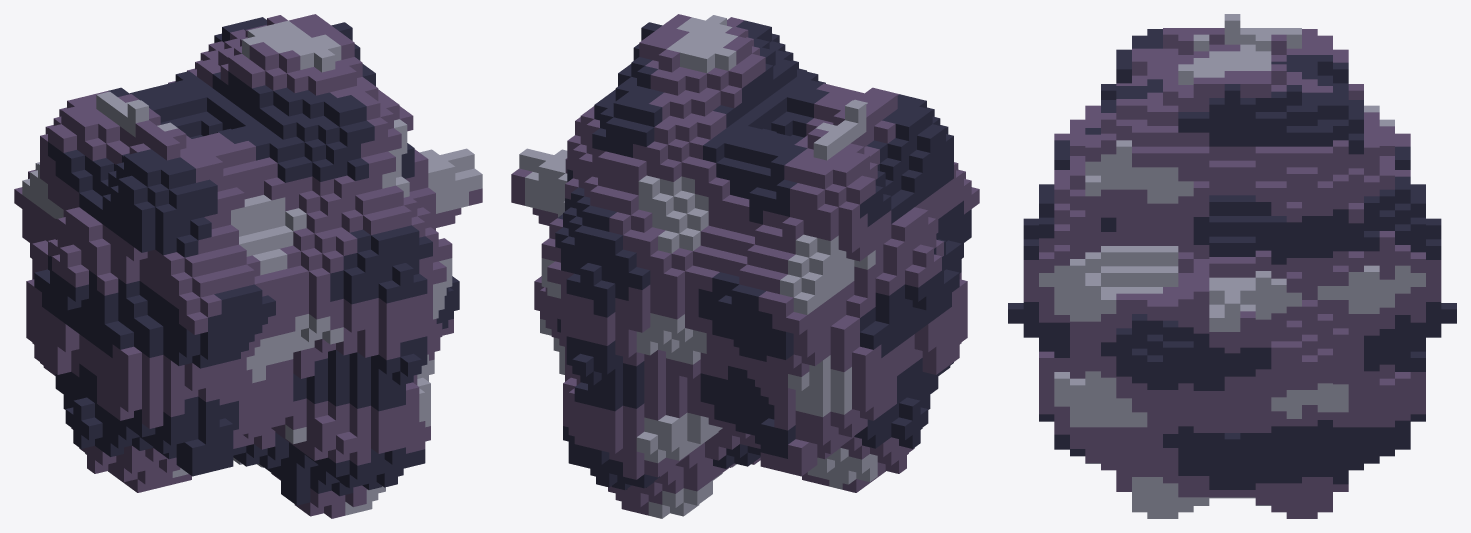
Rendered from asteroid.glb.
The picture shows the model from 3 angles, left to right: view 1: azimuth 30°, elevation 25°; view 2: azimuth 150°, elevation 25°; view 3: azimuth 270°, elevation 25°; orthographic projection.
Visible parts, largest first — view 1: GEO-asteroid; view 2: GEO-asteroid; view 3: GEO-asteroid.
Part boxes in pixels (x1,y1,x2,y2): GEO-asteroid: [14, 14, 482, 518]; GEO-asteroid: [511, 14, 979, 518]; GEO-asteroid: [1008, 14, 1456, 518].
Bounding box in the file's own units: 3.75 × 3.88 × 3.62.
